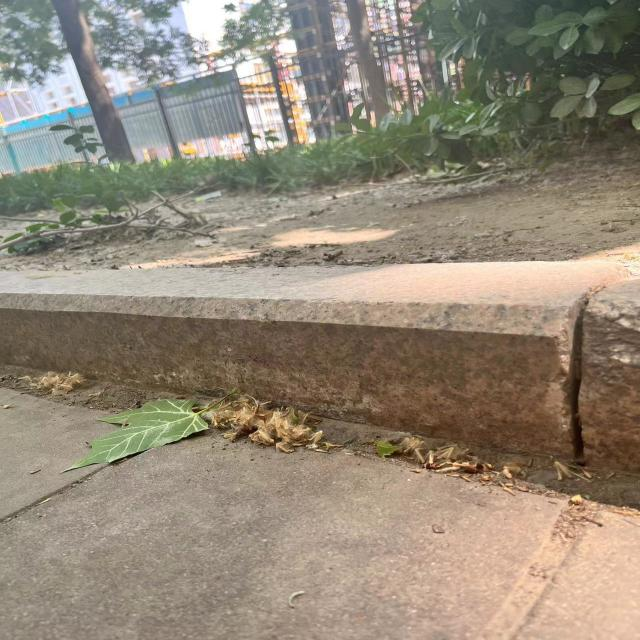curb: (4, 270, 640, 465)
